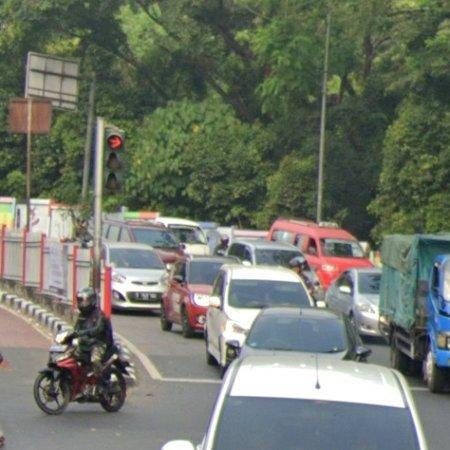motorcycles: (33, 336, 128, 415)
